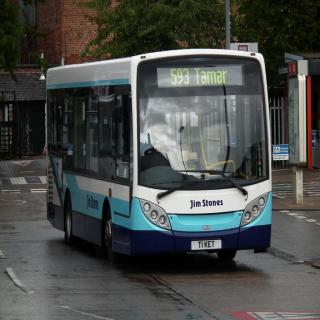bus: (46, 47, 273, 257)
